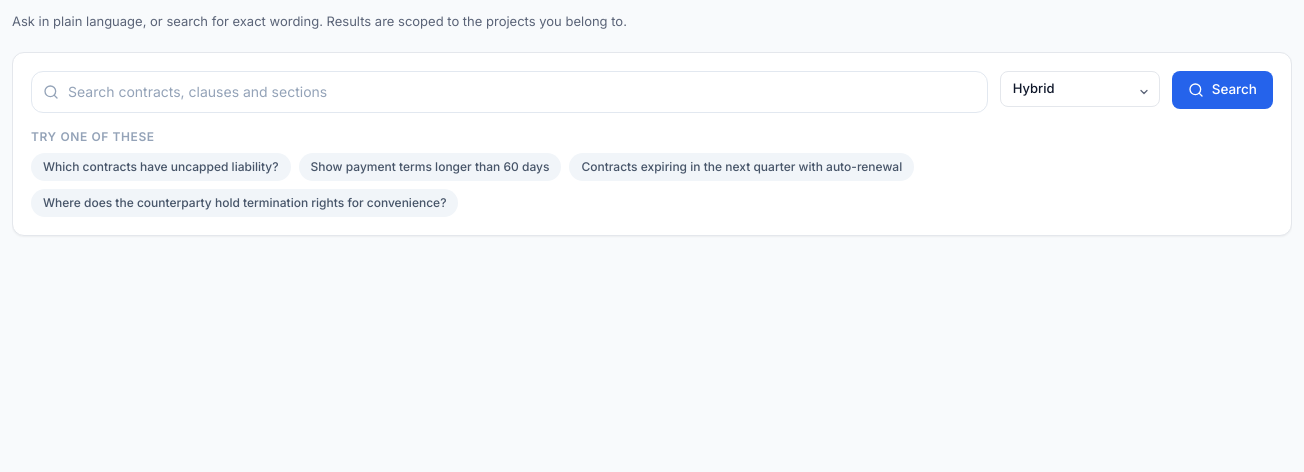
Scenario: SearchPage › clears results when the business unit changes
Type "termination" into the search field. click: (509, 92)
box: [31, 70, 988, 112]
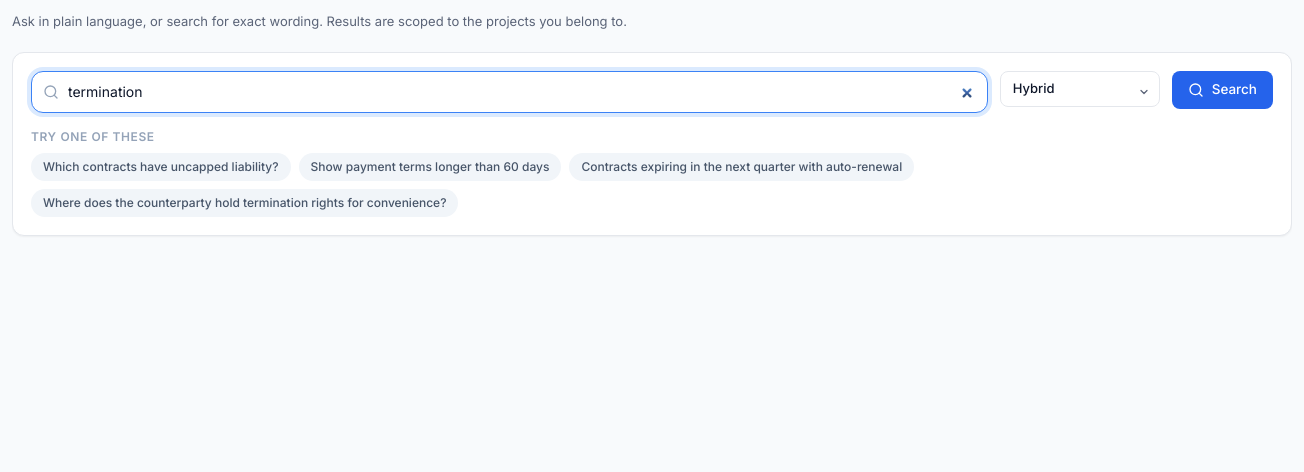
Press Enter
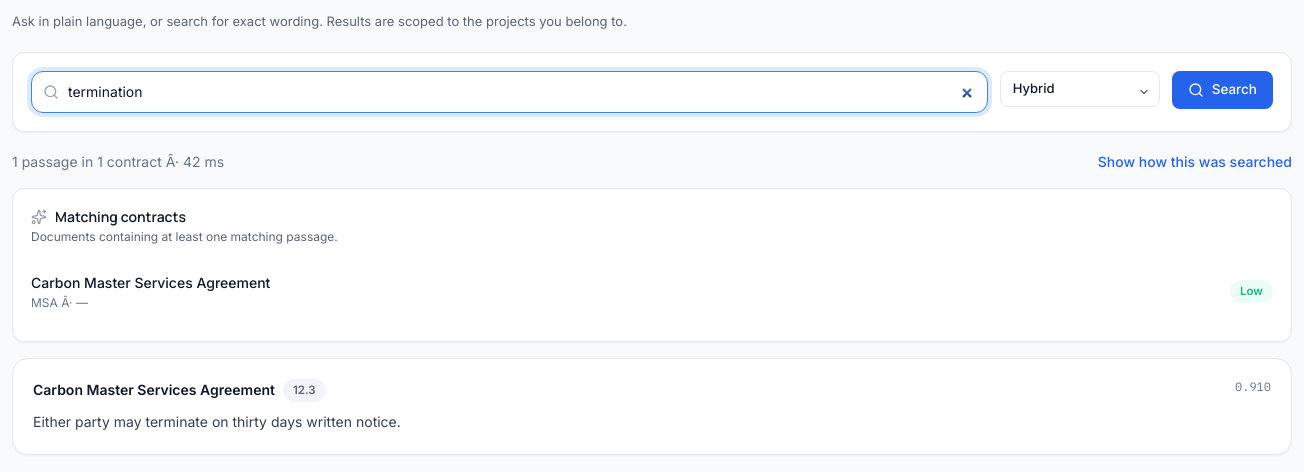
expect the text "Carbon Master Services Agreement" below "Matching contracts" is shown: met, box [31, 274, 270, 290]
